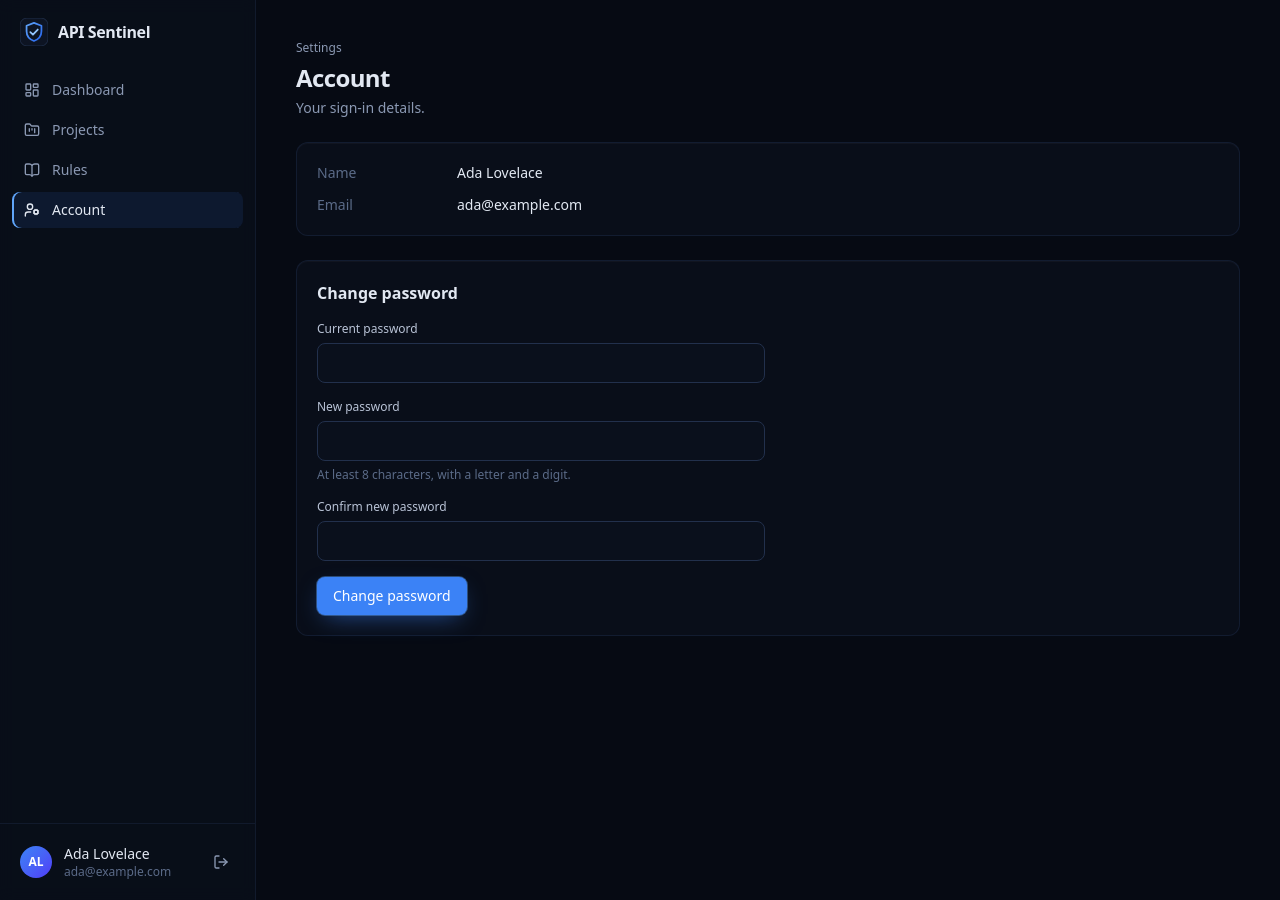
Test: AccountPage › shows a wrong current password on its field and keeps the user signed in
This screenshot has width=1280, height=900.
Type "Wrong-pass-1" into the password field labelled "Current password" at (541, 363), box [317,343,765,383]
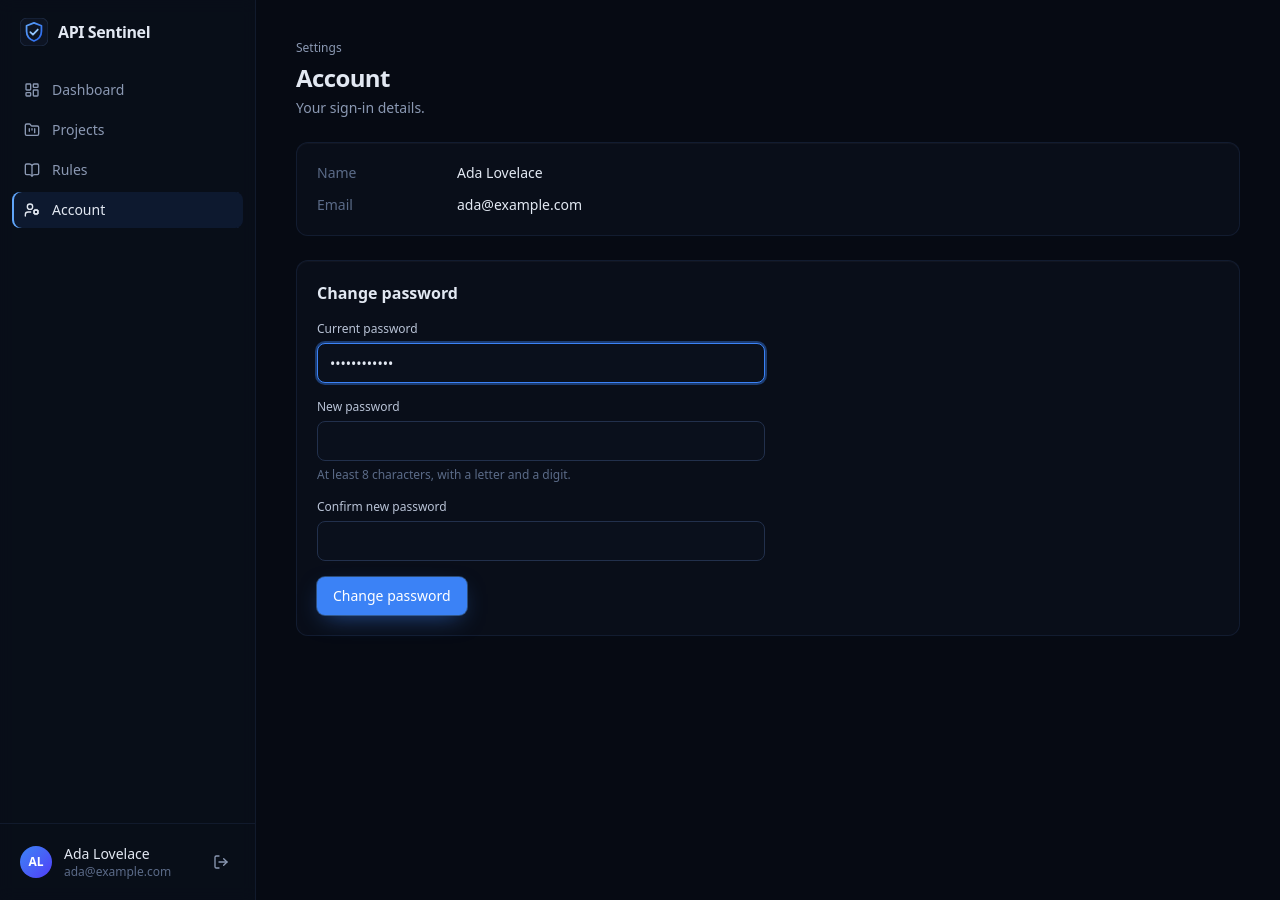
Type "Battery-staple-7" into the password field labelled "New password" at (541, 441), box [317,421,765,461]
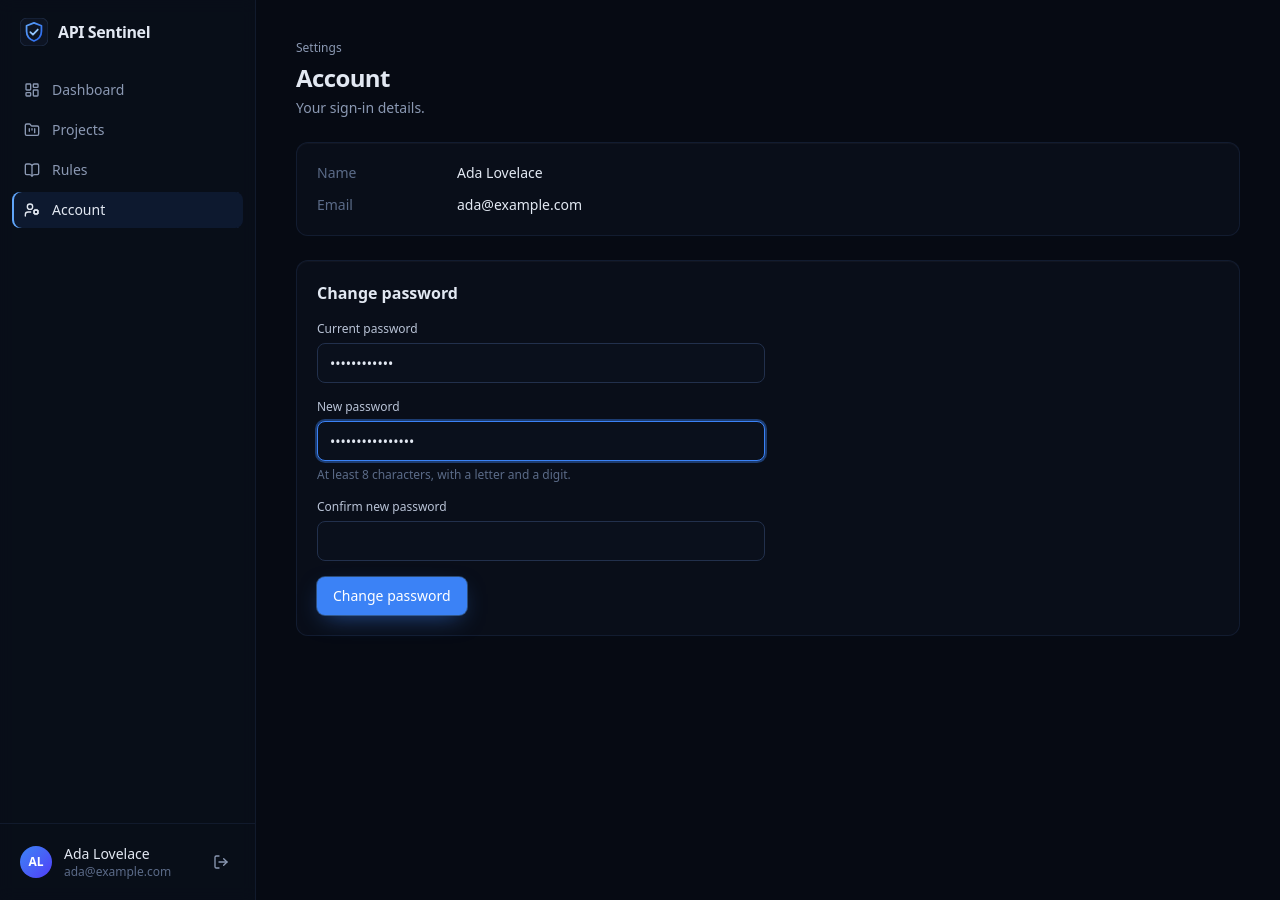
Type "Battery-staple-7" into the password field labelled "Confirm new password" at (541, 541), box [317,521,765,561]
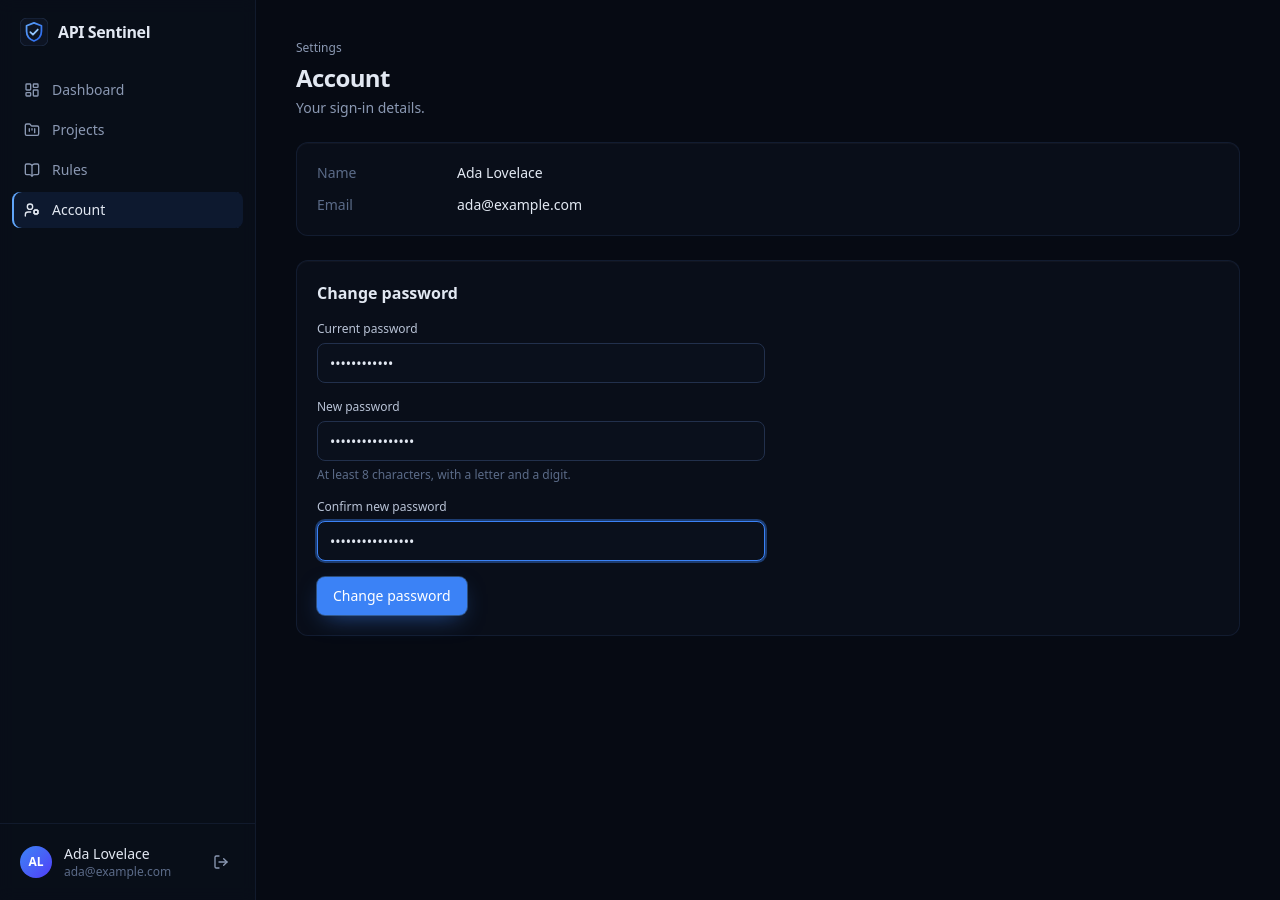
Click the button "Change password" at (392, 596), box [317,577,467,615]
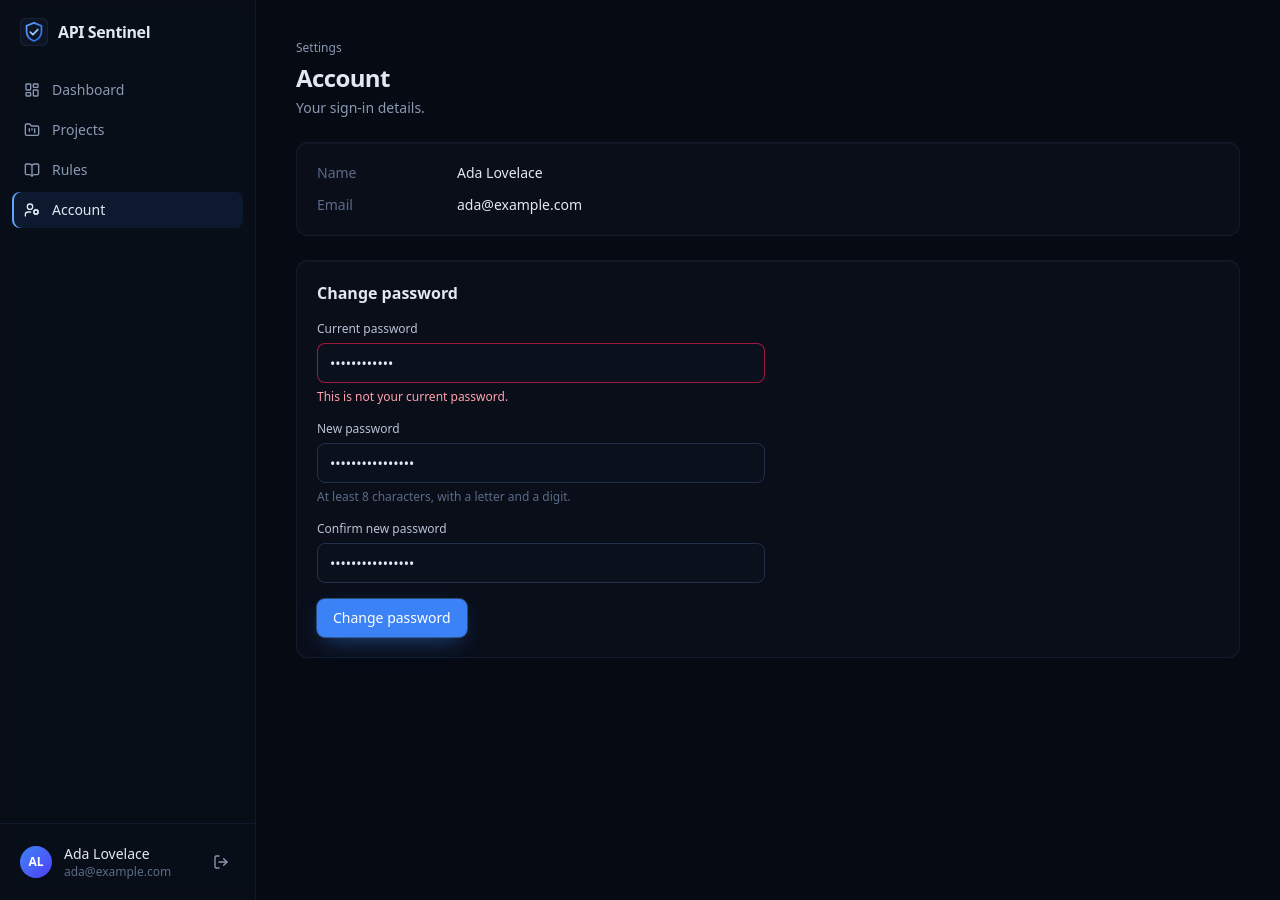
expect the heading "Account" is shown: met, box [296,61,390,94]
expect the text "This is not your current password." is shown: met, box [317,388,508,405]
